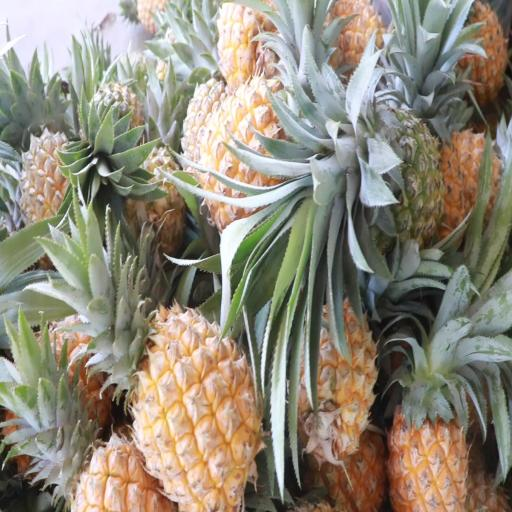Pineapple - v8 v1: (110, 297, 262, 512), (206, 75, 347, 234), (385, 295, 474, 512), (296, 296, 382, 470)
